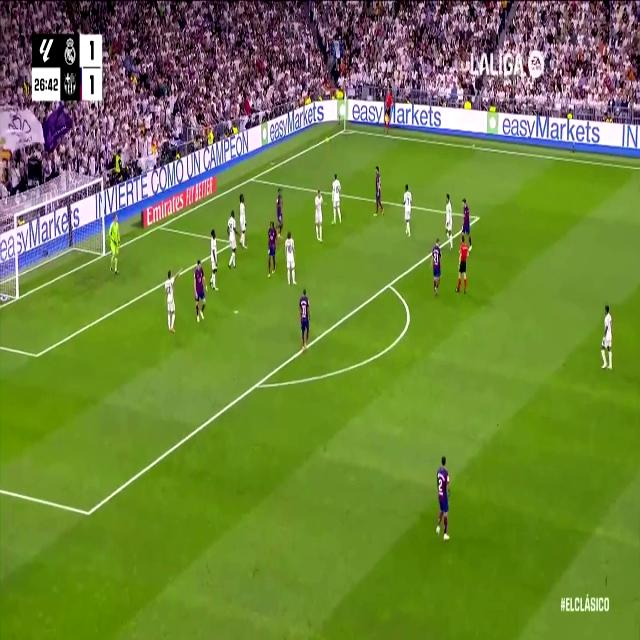bigarea_bottom_inner: (82, 497, 95, 528)
bigarea_top_inner: (473, 208, 481, 226)
bigarea_top_outter: (248, 170, 257, 186)
bottom_arc_area_intersection: (251, 370, 263, 397)
corner: (340, 123, 350, 135)
smallarea_bottom_inner: (32, 344, 42, 366)
top_arc_area_intersection: (384, 275, 394, 293)
